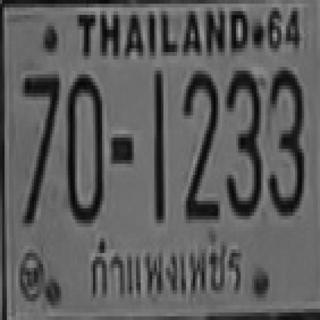N00: (66, 71, 102, 219)
N01: (152, 69, 163, 221)
N02: (182, 69, 218, 218)
N03: (267, 65, 303, 214), (225, 67, 259, 216)
N07: (20, 71, 59, 223), (20, 71, 59, 179)
P16: (86, 233, 247, 302)
